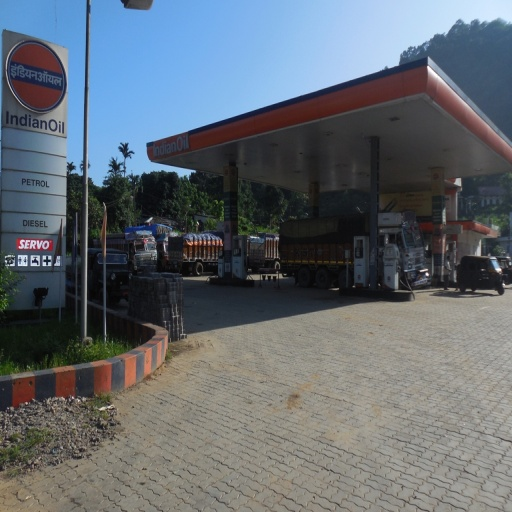roof: (148, 52, 507, 210)
